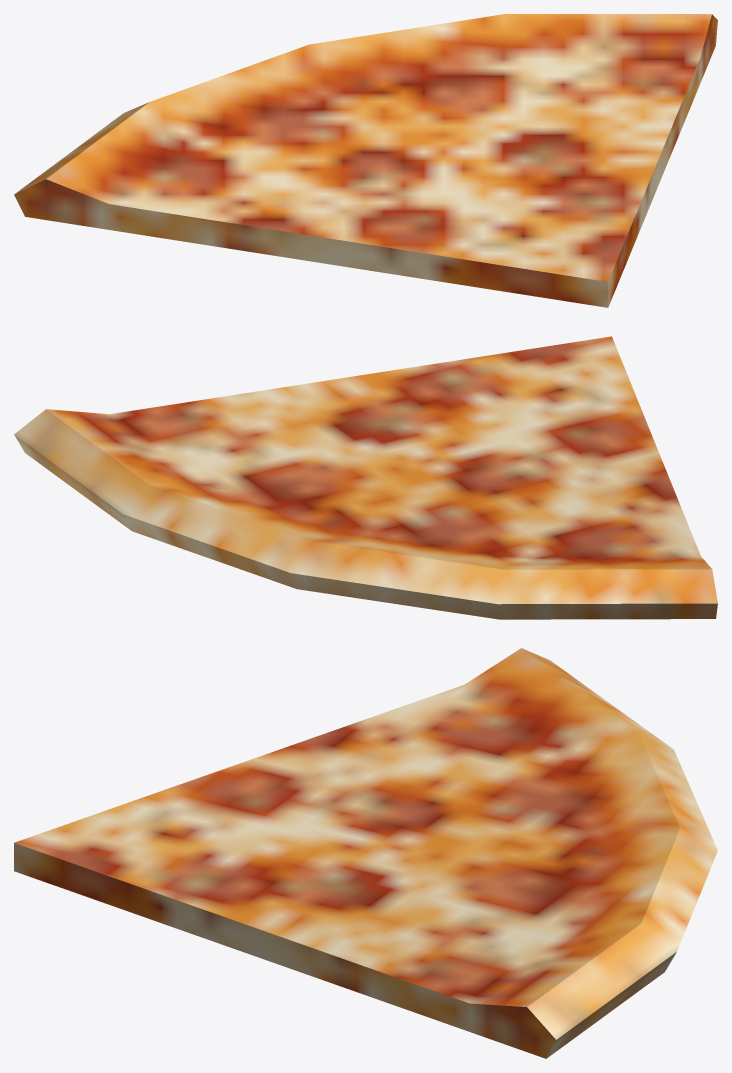
The model's file is pepperoni slice big 2.fbx.
3 views of the same model, one above another, from view 1: azimuth 30°, elevation 25°; view 2: azimuth 150°, elevation 25°; view 3: azimuth 270°, elevation 25° (orthographic). The views are drawn at different scales.
Parts seen in each view (by area): view 1: slice pepperoni big 2; view 2: slice pepperoni big 2; view 3: slice pepperoni big 2.
Part boxes in pixels (left/top/right/bottom): slice pepperoni big 2: left=14, top=14, right=717, bottom=307; slice pepperoni big 2: left=14, top=336, right=717, bottom=619; slice pepperoni big 2: left=14, top=648, right=717, bottom=1058.
Size of the model in its own units: 23.38 by 1.29 by 18.32.
Materials: 1 (1 with a texture image).
